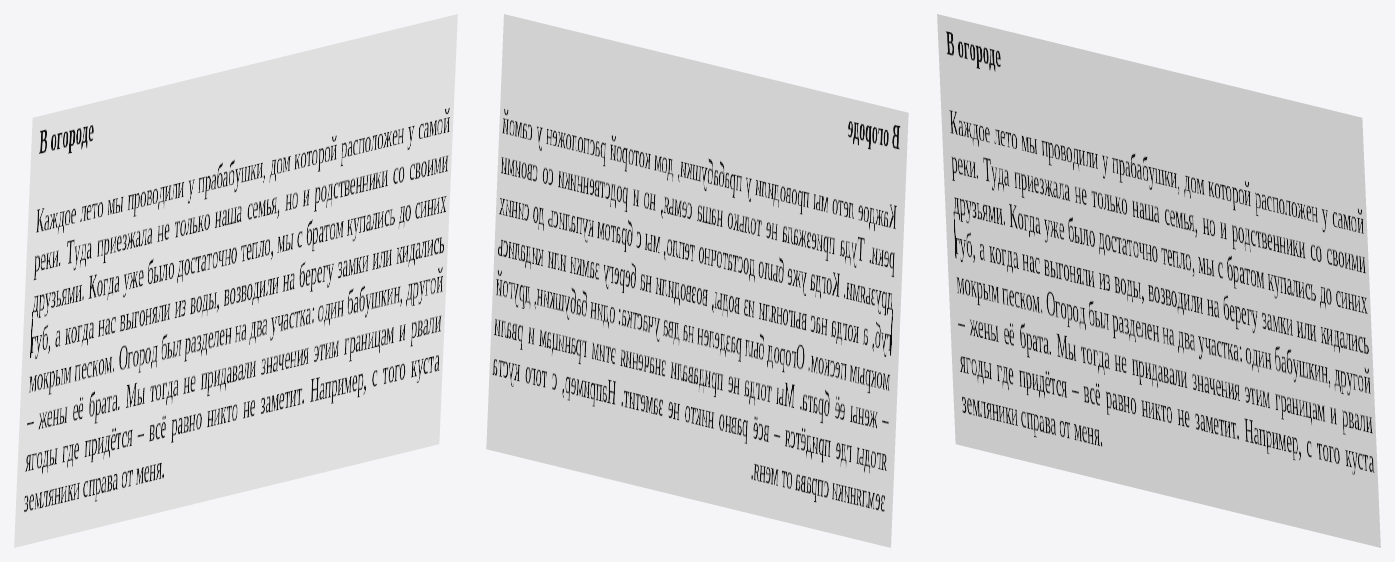
Rendered from ogorode.gltf.
The picture shows the model from 3 angles, left to right: view 1: azimuth 30°, elevation 25°; view 2: azimuth 150°, elevation 25°; view 3: azimuth 330°, elevation 25°; orthographic projection. The views are drawn at different scales.
Parts seen in each view (by area): view 1: Плоскость; view 2: Плоскость; view 3: Плоскость.
Boxes of the visible parts, x1,y1,x2,y2 form: Плоскость: (14, 14, 457, 547); Плоскость: (486, 14, 908, 547); Плоскость: (937, 14, 1380, 547).
Bounding box in the file's own units: 6 × 5.98 × 0.4532.
1 material, 1 textured.
